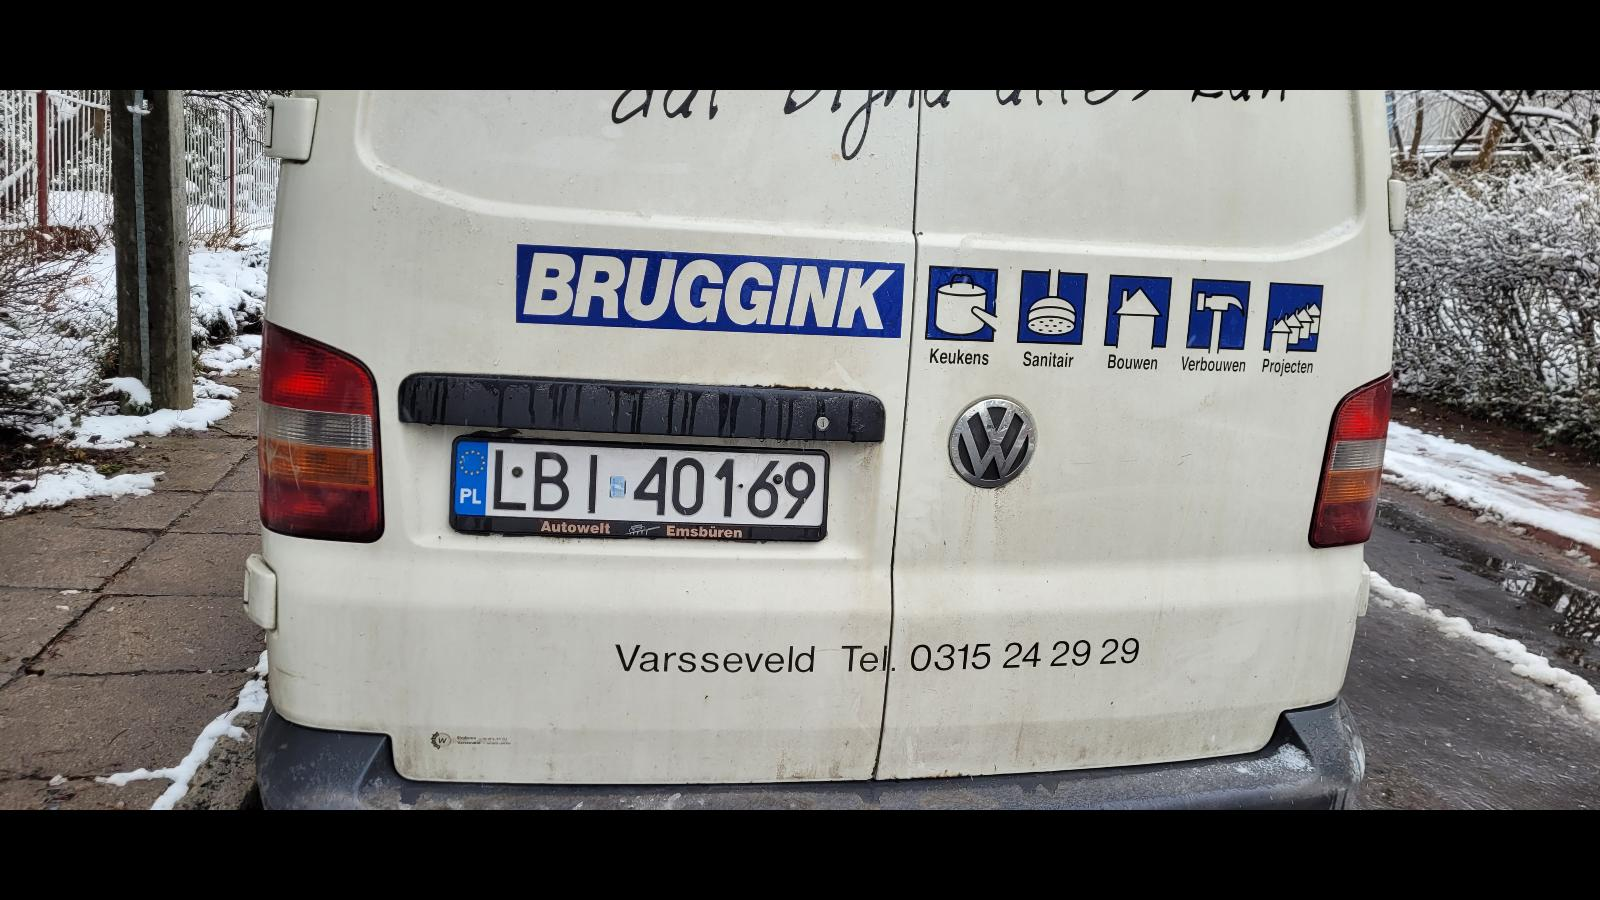plates: (449, 435, 831, 543)
